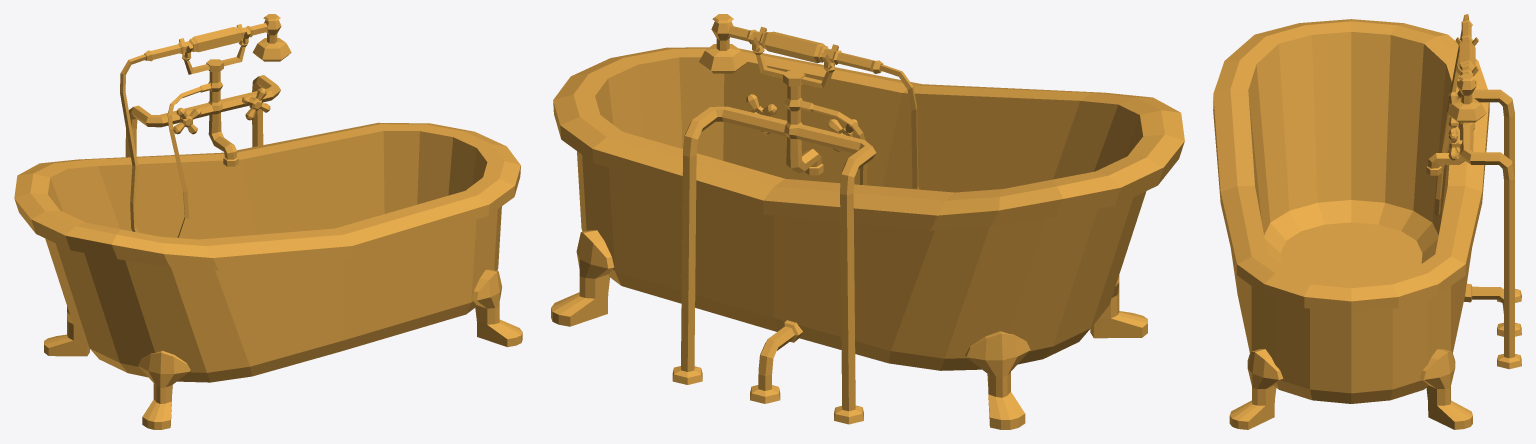
File: SM_Bathtub_Victorian.fbx
The picture shows the model from 3 angles, left to right: view 1: azimuth 30°, elevation 25°; view 2: azimuth 150°, elevation 25°; view 3: azimuth 270°, elevation 25°; orthographic projection. The views are drawn at different scales.
Parts seen in each view (by area): view 1: bathtub-victorian; view 2: bathtub-victorian; view 3: bathtub-victorian.
Boxes of the visible parts, x1=… form: bathtub-victorian: x1=14, y1=14, x2=522, y2=429; bathtub-victorian: x1=551, y1=14, x2=1184, y2=429; bathtub-victorian: x1=1213, y1=14, x2=1521, y2=429.
Bounding box in the file's own units: 1.8 × 0.9996 × 0.9881.
